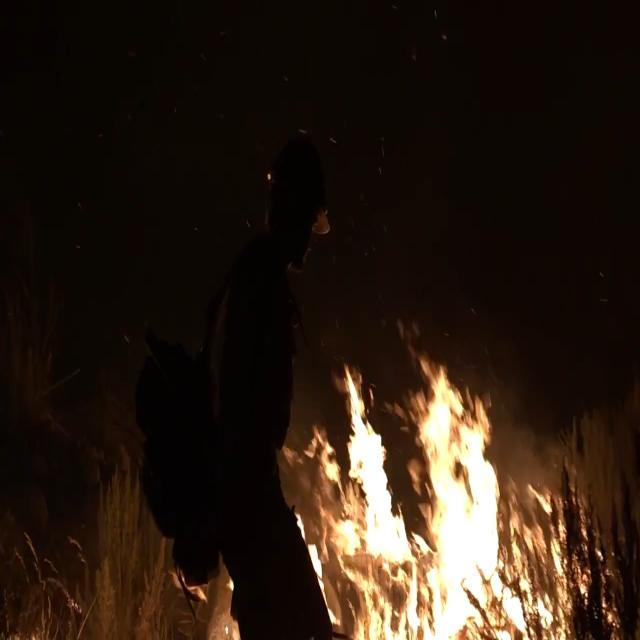Fire: (294, 348, 618, 640)
